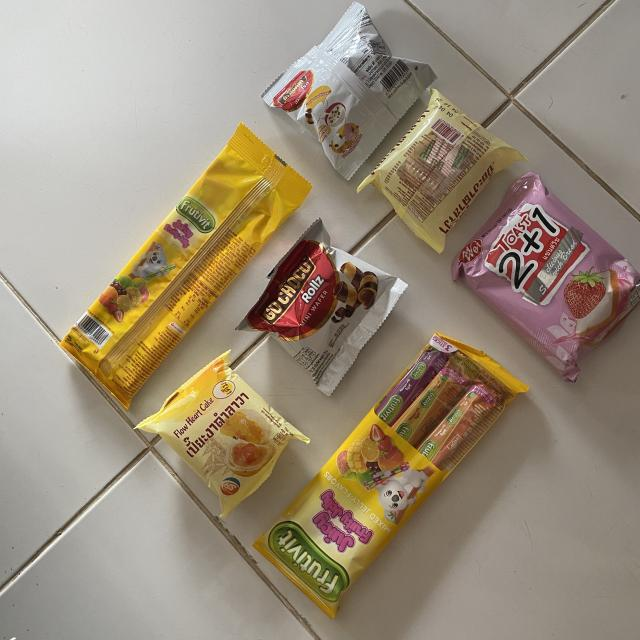plastik: (254, 332, 528, 618), (61, 124, 310, 409), (451, 172, 640, 382), (261, 2, 435, 179), (239, 219, 406, 395), (136, 351, 309, 518), (358, 89, 526, 252)
